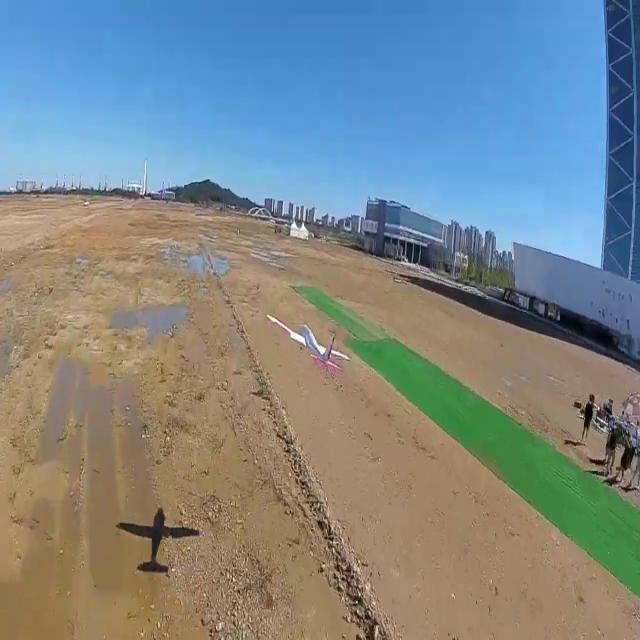iha: (296, 336, 326, 356)
